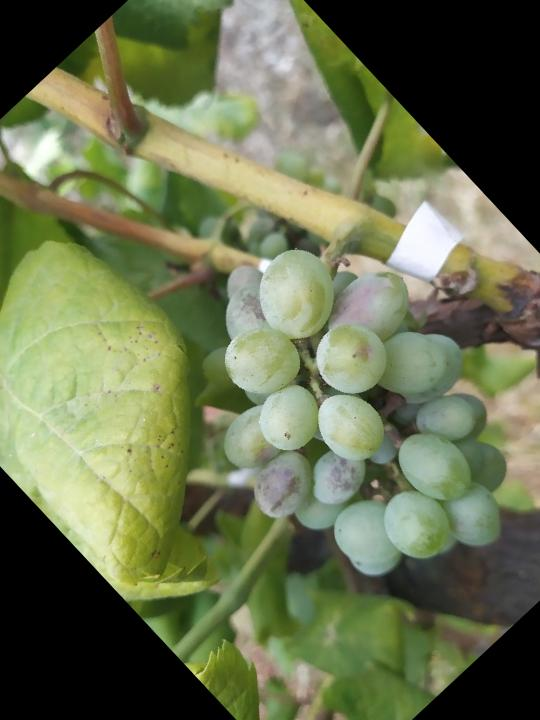grape: (123, 184, 540, 649)
